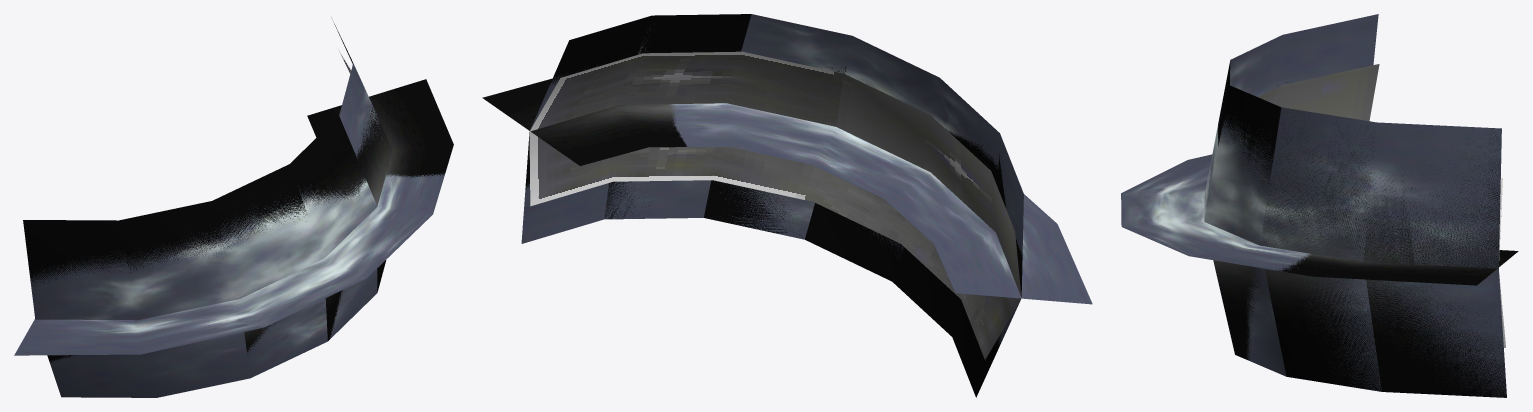
The model's file is Effect_3110attack_S.fbx.
3 views of the same model, side by side, from view 1: azimuth 30°, elevation 25°; view 2: azimuth 150°, elevation 25°; view 3: azimuth 270°, elevation 25° (orthographic). The views are drawn at different scales.
Visible parts, largest first — view 1: Effect_1001tattack01, Effect_1001tattack04; view 2: Effect_1001tattack01, Effect_1001tattack02, Effect_1001tattack04; view 3: Effect_1001tattack01, Effect_1001tattack04, Effect_1001tattack02.
Part boxes in pixels (x1,y1,x2,y2): Effect_1001tattack01: (14,54,445,397); Effect_1001tattack04: (23,21,453,362); Effect_1001tattack01: (521,14,1092,346); Effect_1001tattack02: (529,51,1021,359); Effect_1001tattack04: (482,14,1022,397); Effect_1001tattack01: (1121,14,1506,397); Effect_1001tattack04: (1213,61,1518,397); Effect_1001tattack02: (1258,64,1505,347).
Bounding box in the file's own units: 9.44 × 5.18 × 5.28.
4 materials, 4 textured.
